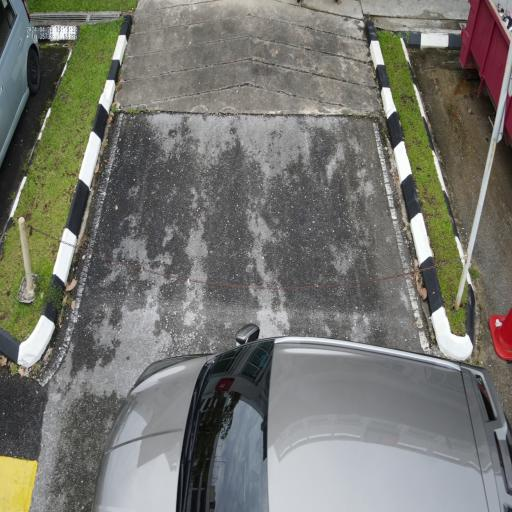Illegal: (89, 318, 511, 512)
